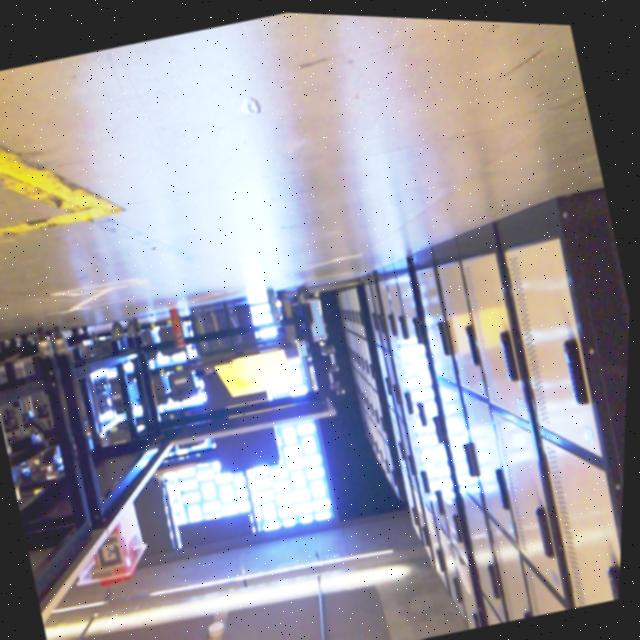greenpringles: (252, 273, 288, 334)
redpringles: (163, 293, 192, 352)
